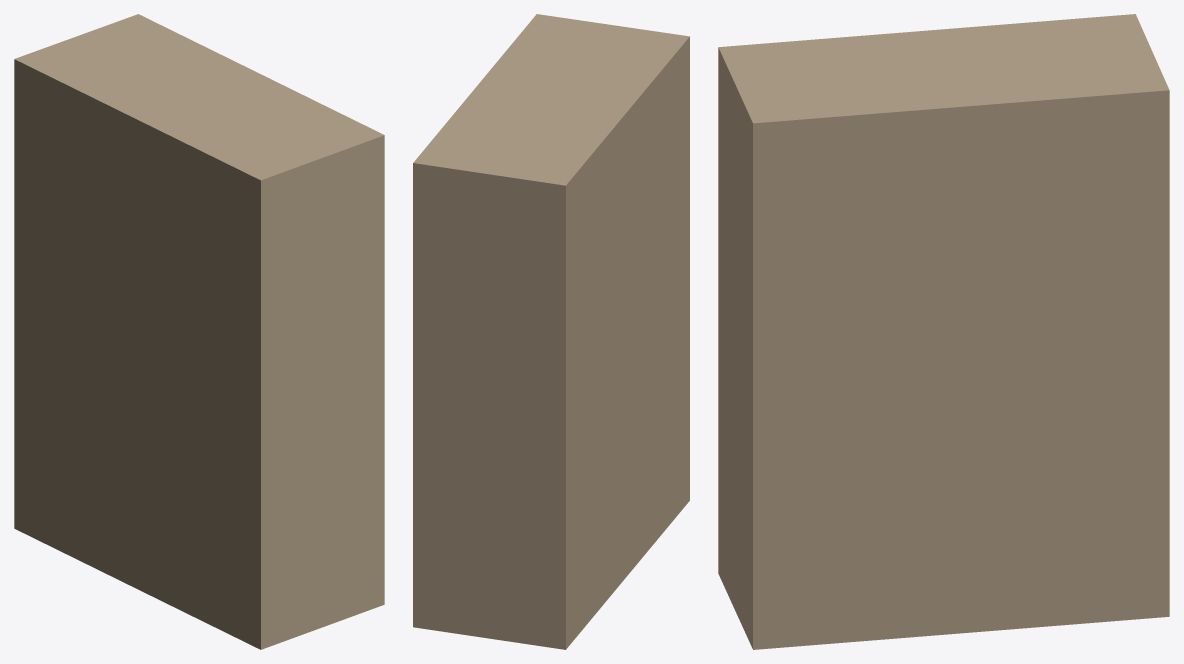
The model's file is bld_106456092.dae.
3 renders of one model, left to right at view 1: azimuth 30°, elevation 25°; view 2: azimuth 150°, elevation 25°; view 3: azimuth 270°, elevation 25°, orthographic. The views are drawn at different scales.
Parts seen in each view (by area): view 1: bld_106456092; view 2: bld_106456092; view 3: bld_106456092.
Boxes of the visible parts, <box> form: bld_106456092: <box>14,14,384,649</box>; bld_106456092: <box>413,14,689,649</box>; bld_106456092: <box>718,14,1169,649</box>.
Bounding box in the file's own units: 3.57 × 6.21 × 8.
